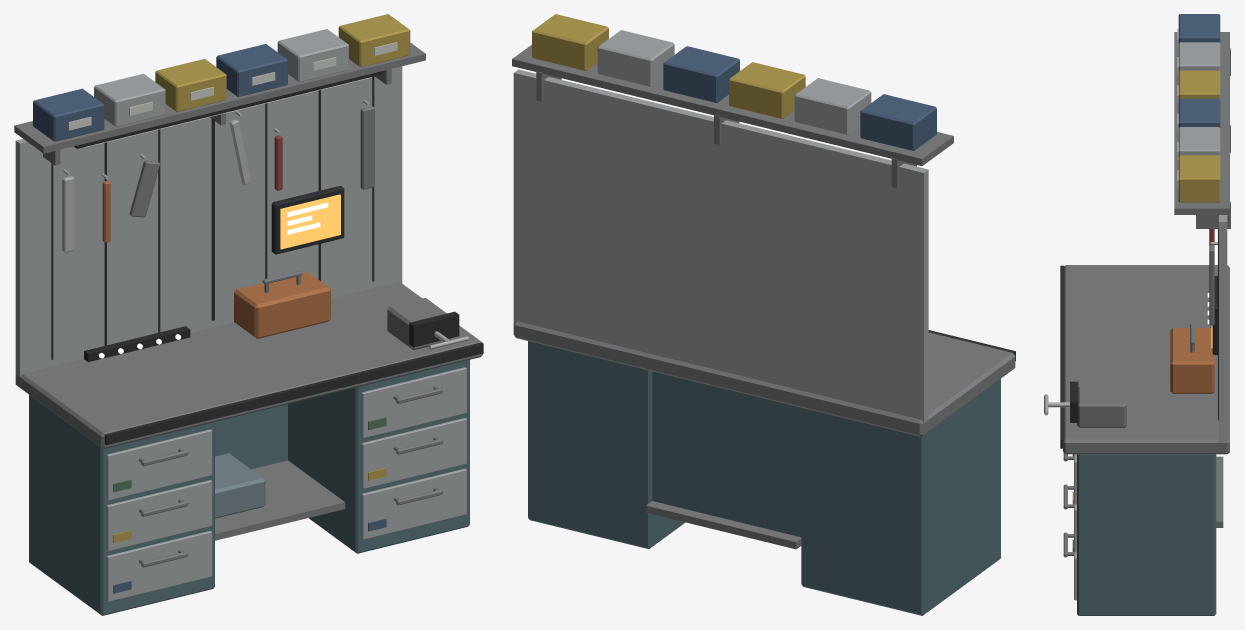
File: astro_workbench.fbx
The picture shows the model from 3 angles, left to right: view 1: azimuth 30°, elevation 25°; view 2: azimuth 150°, elevation 25°; view 3: azimuth 270°, elevation 25°; orthographic projection. The views are drawn at different scales.
Parts seen in each view (by area): view 1: Workbench_Body; view 2: Workbench_Body; view 3: Workbench_Body.
Part boxes in pixels (box(x1,y1,x2,y2)): Workbench_Body: box(14, 14, 483, 615); Workbench_Body: box(512, 14, 1015, 615); Workbench_Body: box(1044, 14, 1230, 615).
Size of the model in its own units: 300 by 345 by 134.
